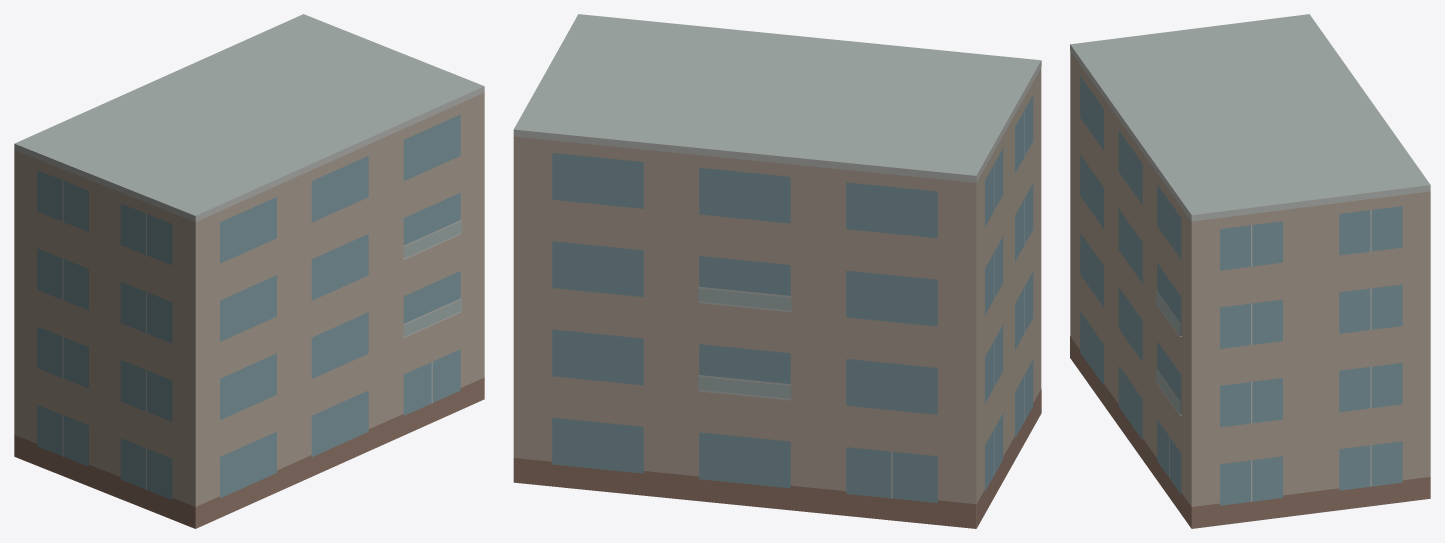
The model's file is residential-ccdb895d-79d4-4681-a91a-649424937bc6.glb.
3 views of the same model, side by side, from view 1: azimuth 30°, elevation 25°; view 2: azimuth 150°, elevation 25°; view 3: azimuth 270°, elevation 25° (orthographic). The views are drawn at different scales.
Visible parts, largest first — view 1: residential-ccdb895d-79d4-4681-a91a-649424937bc6.tmp; view 2: residential-ccdb895d-79d4-4681-a91a-649424937bc6.tmp; view 3: residential-ccdb895d-79d4-4681-a91a-649424937bc6.tmp.
Part boxes in pixels (box(x1,y1,x2,y2)): residential-ccdb895d-79d4-4681-a91a-649424937bc6.tmp: box(14, 14, 484, 528); residential-ccdb895d-79d4-4681-a91a-649424937bc6.tmp: box(513, 14, 1041, 528); residential-ccdb895d-79d4-4681-a91a-649424937bc6.tmp: box(1070, 14, 1430, 528).
Size of the model in its own units: 16.81 by 12.2 by 12.72.
